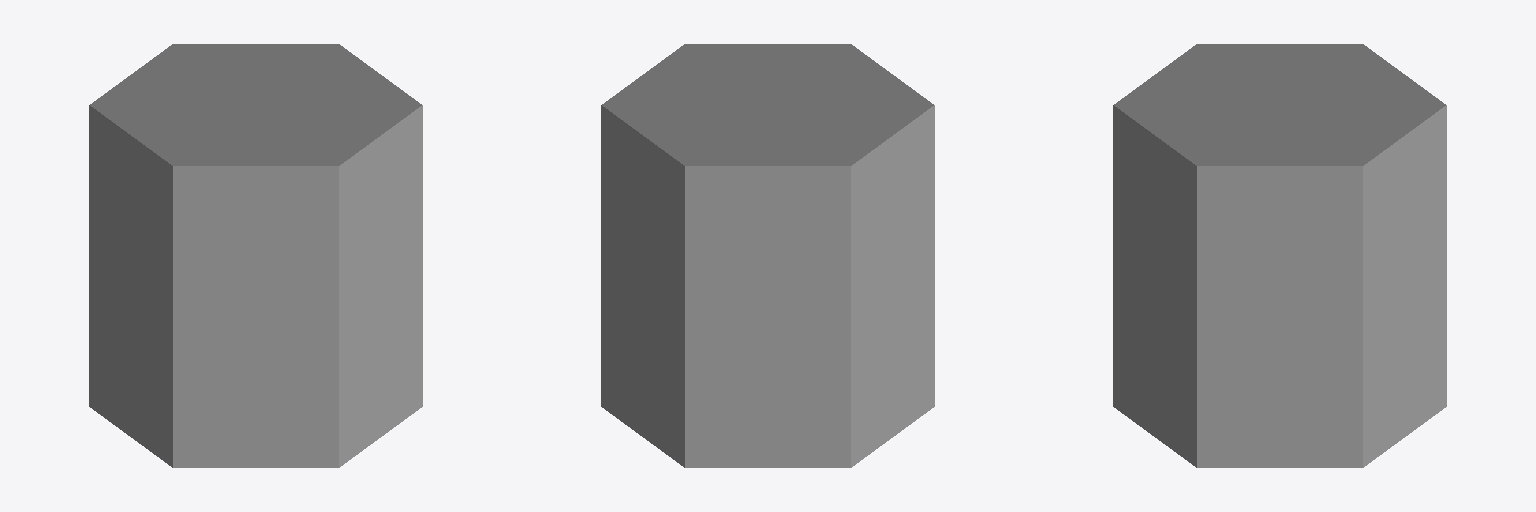
3 renders of one model, left to right at view 1: azimuth 30°, elevation 25°; view 2: azimuth 150°, elevation 25°; view 3: azimuth 270°, elevation 25°, orthographic.
Visible parts, largest first — view 1: 円柱; view 2: 円柱; view 3: 円柱.
Boxes of the visible parts, x1=… form: 円柱: x1=89, y1=44, x2=422, y2=467; 円柱: x1=601, y1=44, x2=934, y2=467; 円柱: x1=1113, y1=44, x2=1446, y2=467.
Bounding box in the file's own units: 1.73 × 2 × 2.
Materials: 1 (1 with a texture image).